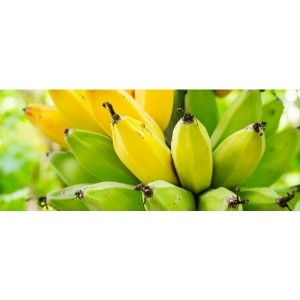banana_brain food: (69, 111, 241, 199)
